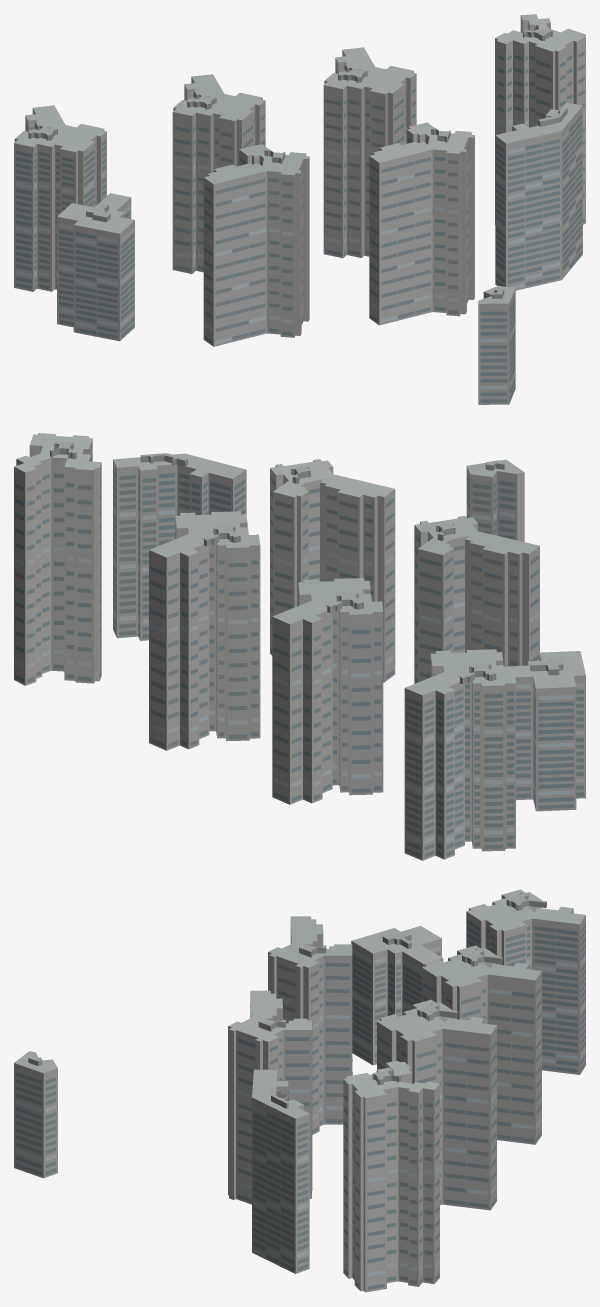
Rendered from apt-a10025410.glb.
3 views of the same model, one above another, from view 1: azimuth 30°, elevation 25°; view 2: azimuth 150°, elevation 25°; view 3: azimuth 270°, elevation 25° (orthographic). The views are drawn at different scales.
Parts seen in each view (by area): view 1: apt-a10025410; view 2: apt-a10025410; view 3: apt-a10025410.
Boxes of the visible parts, x1,y1,x2,y2 form: apt-a10025410: (14, 14, 585, 404); apt-a10025410: (14, 433, 585, 860); apt-a10025410: (14, 889, 585, 1292).
Size of the model in its own units: 238 by 87 by 226.
